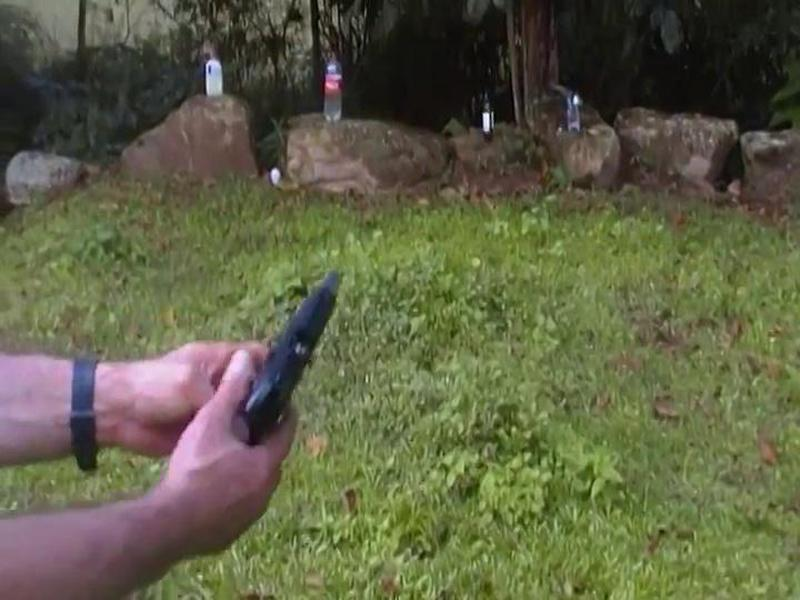Pistola: (200, 270, 359, 469)
